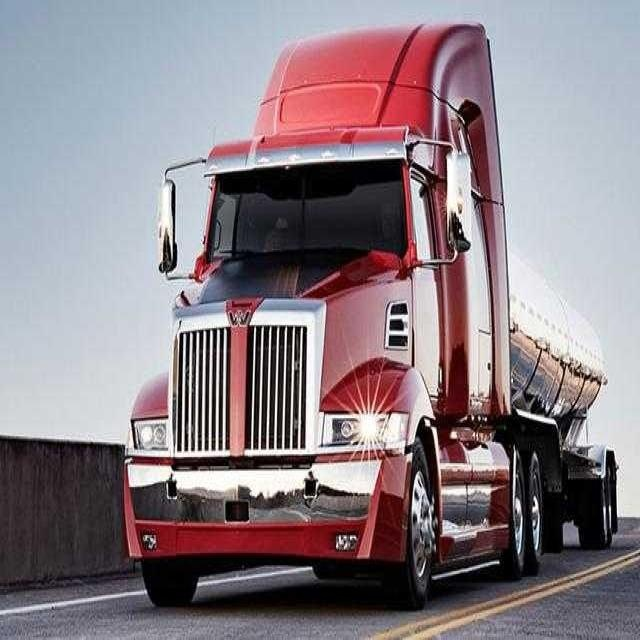Truck: (122, 16, 622, 616)
